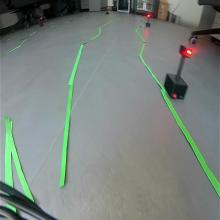red: (179, 45, 193, 59)
